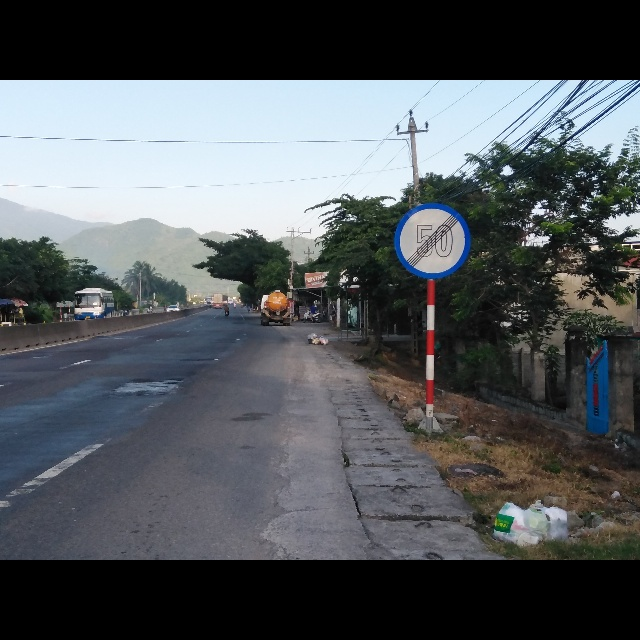Hết hạn chế tốc độ tối đa 50km/h: (394, 202, 471, 280)
